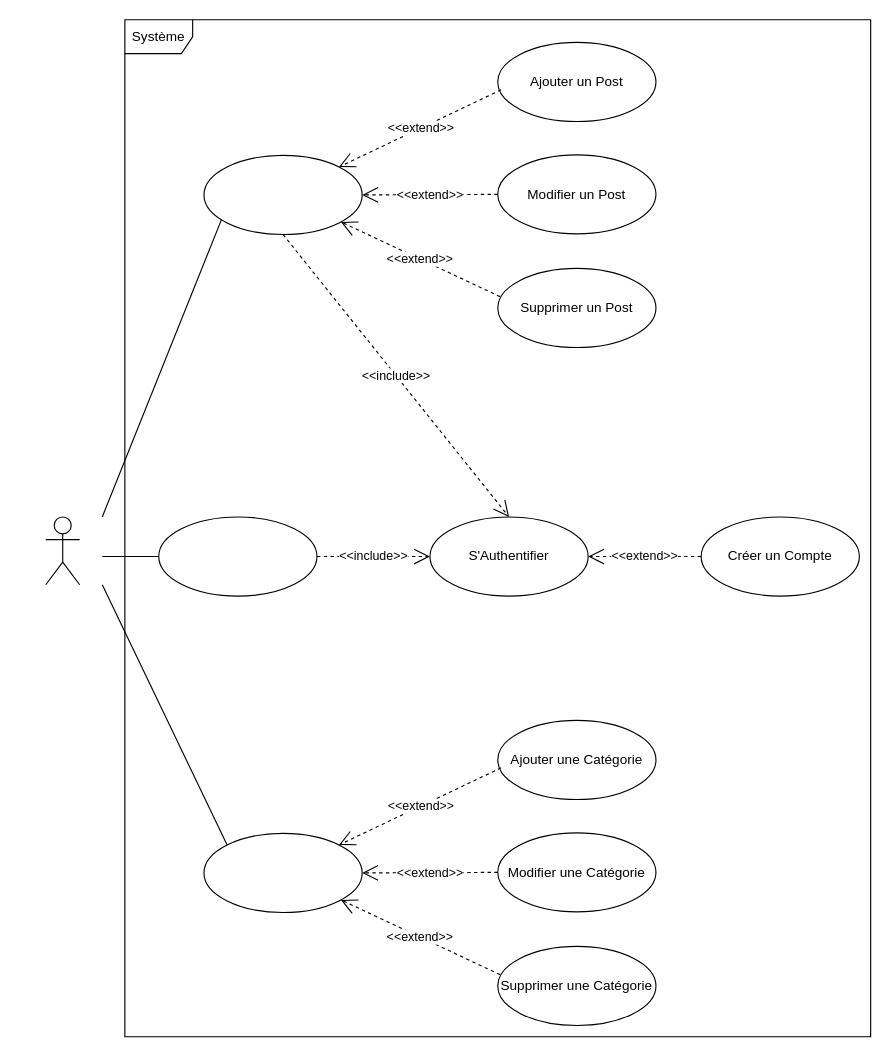
Some shapes in this 890 by 1057 pixel diagram are drawn without their labels. The shapes that lost their labels are listed below. From the top down, each one's centre as x and y in pixels, then its label:
point 282,194: Gérer les Posts
point 62,550: Administrateur
point 237,556: Valider les Commentaires reçus
point 282,872: Gérer les Catégories
